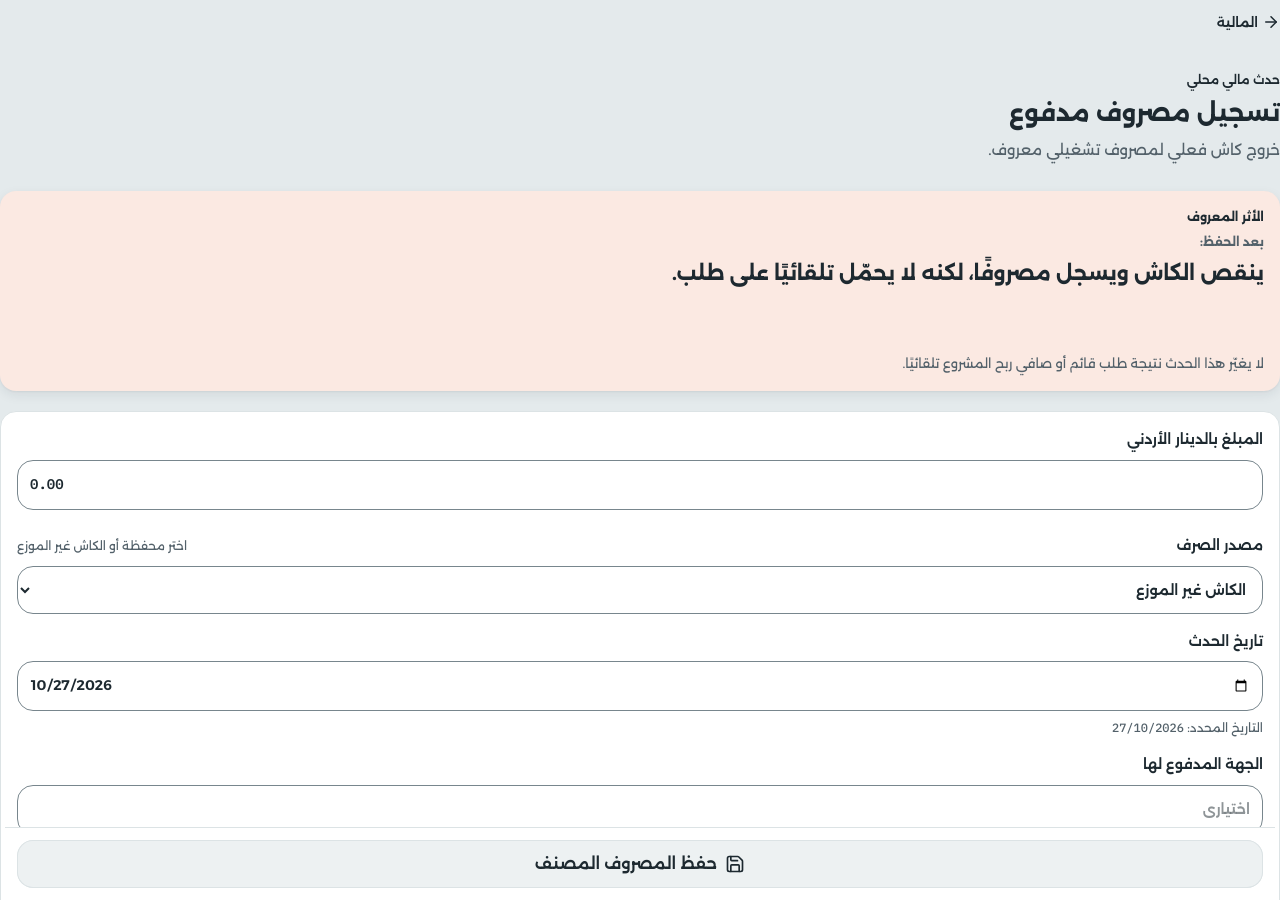
Test: FinancialEventEditor guided journey (المجموعة ١) › attributes the wallet after save and surfaces an attribution failure honestly before leaving
Select "الدرج — تغطية من رصيدها" in the dropdown labelled "مصدر الصرف اختر محفظة أو الكاش غير الموزع" at (640,590), box [17, 566, 1263, 614]
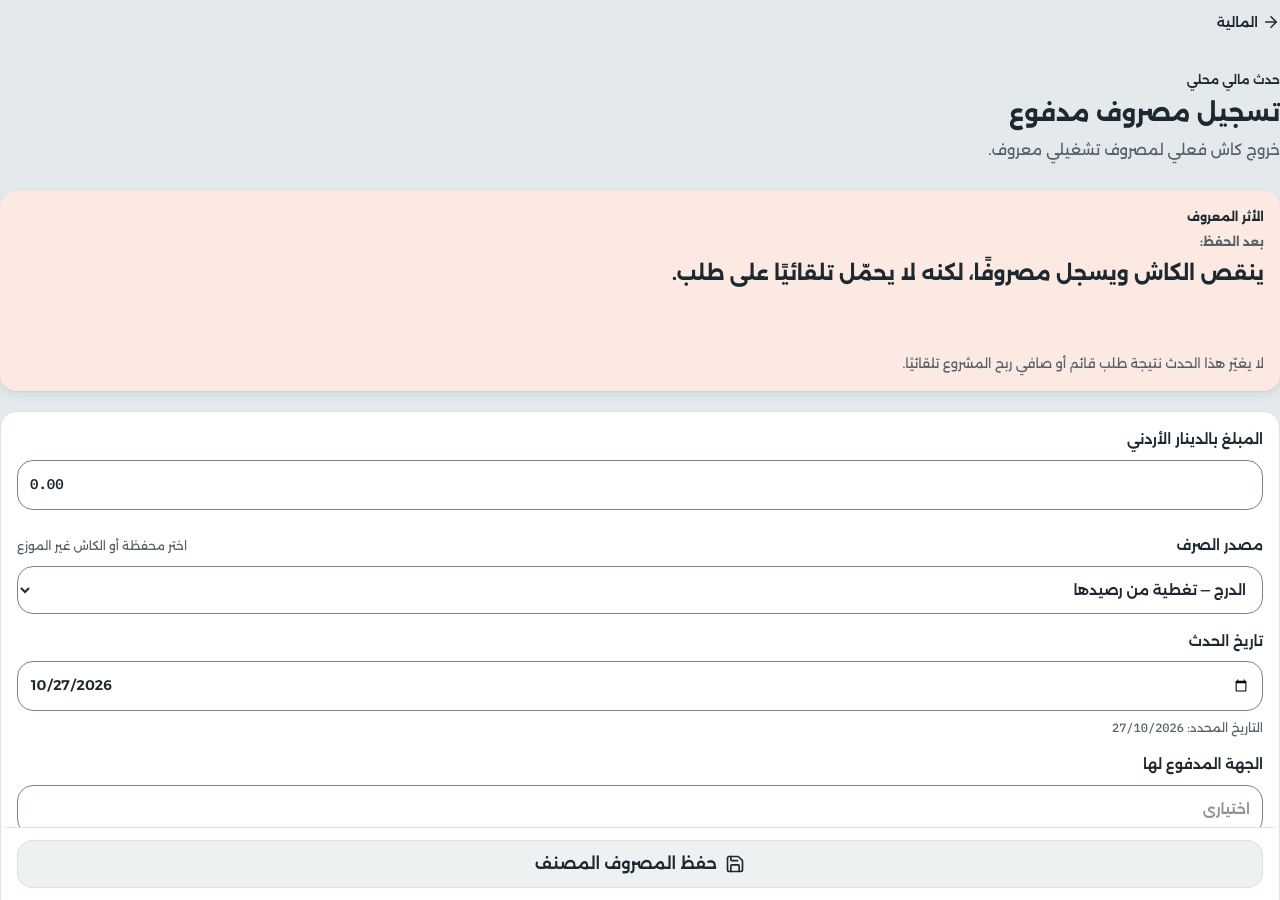
Type "25" into the field labelled "المبلغ بالدينار الأردني" at (640,485), box [17, 460, 1263, 510]
(page scrolled)
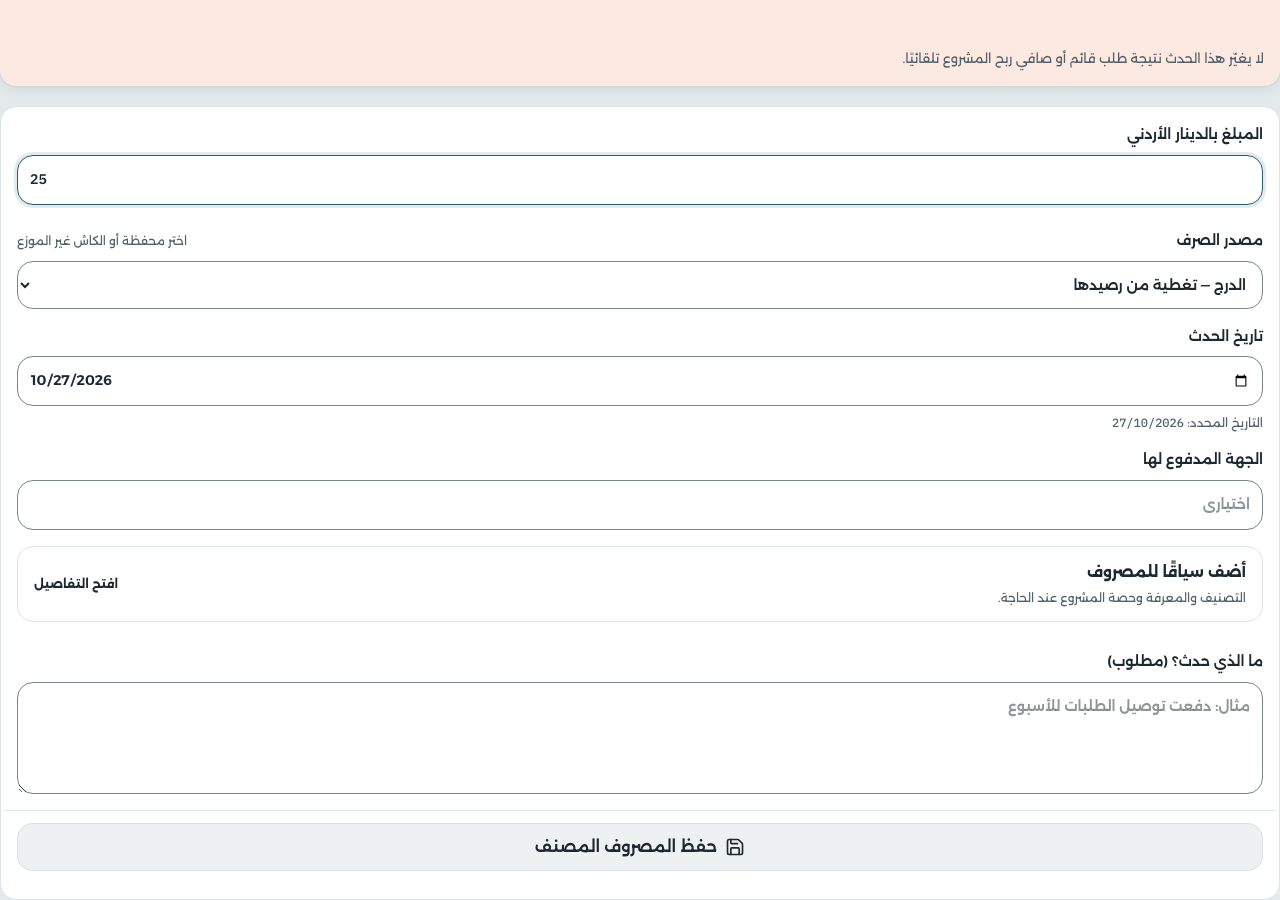
Type "توصيل" into the text box with placeholder "مثال: دفعت توصيل الطلبات للأسبوع" at (640,738), box [17, 682, 1263, 794]
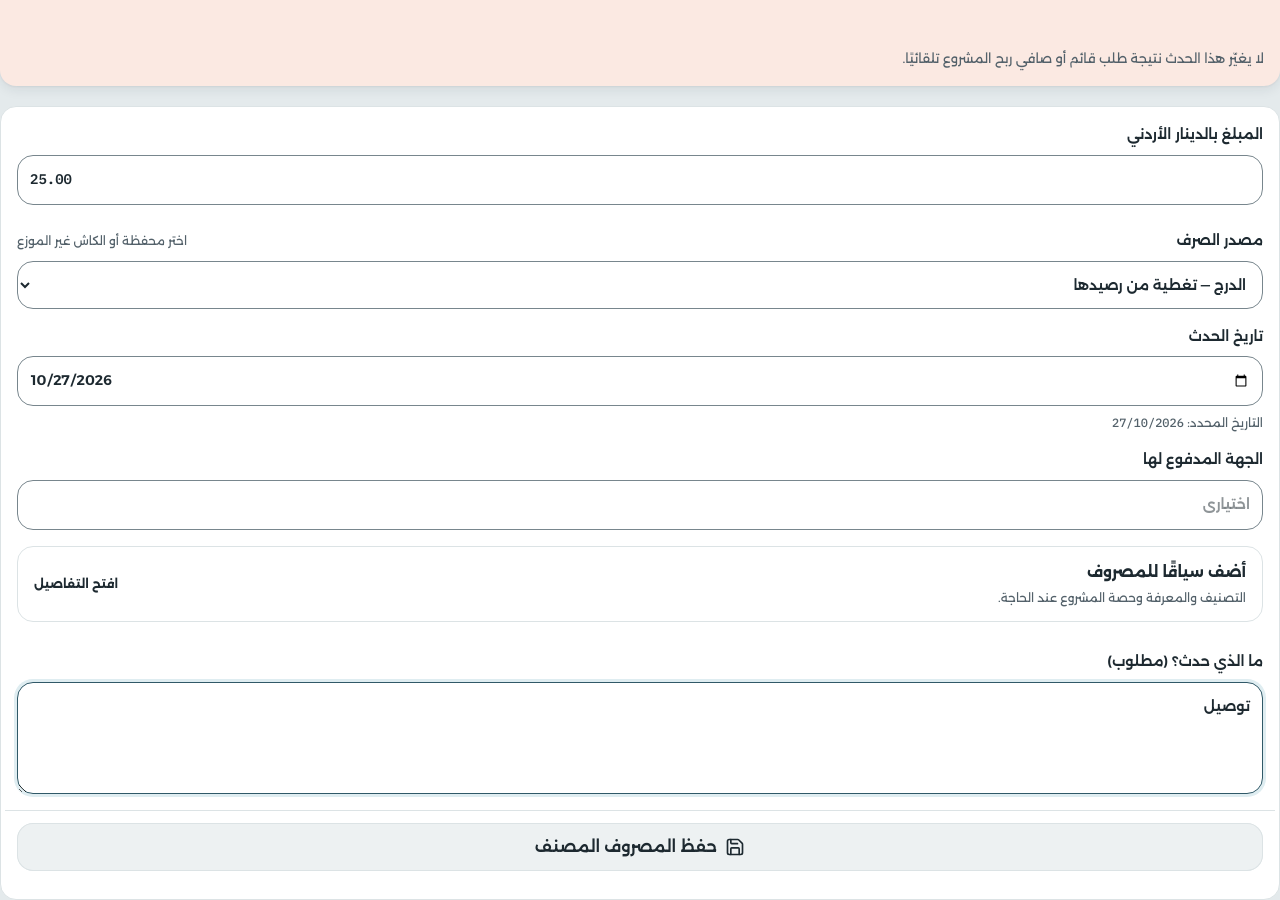
Click the button "حفظ المصروف المصنف" at (640,846), box [17, 822, 1263, 870]
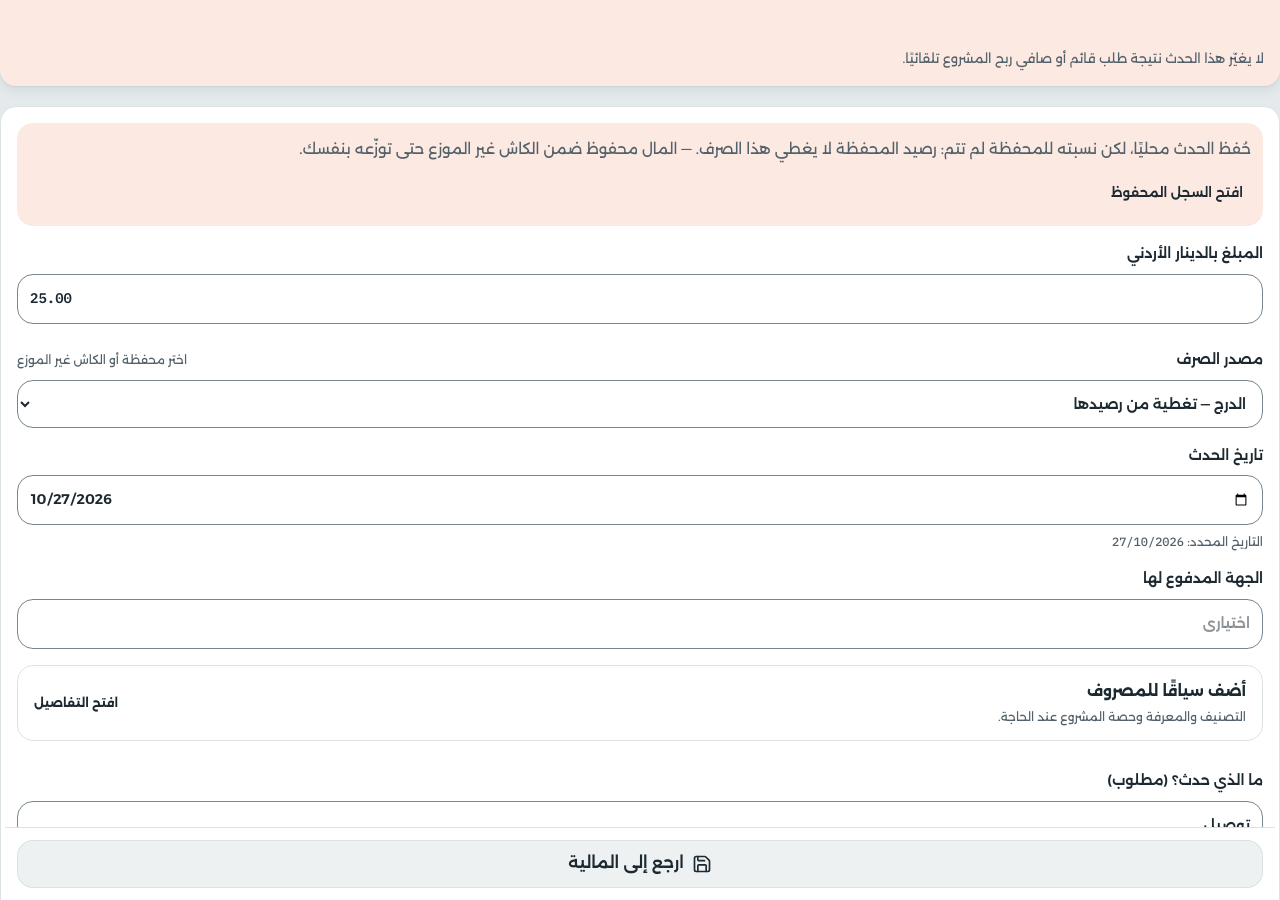
expect the text "نسبته للمحفظة لم تتم" is shown: met, box [937, 139, 1251, 158]
expect the text "المال محفوظ ضمن" is shown: met, box [299, 139, 696, 158]
expect the button "ارجع إلى المالية" is shown: met, box [17, 840, 1263, 888]
